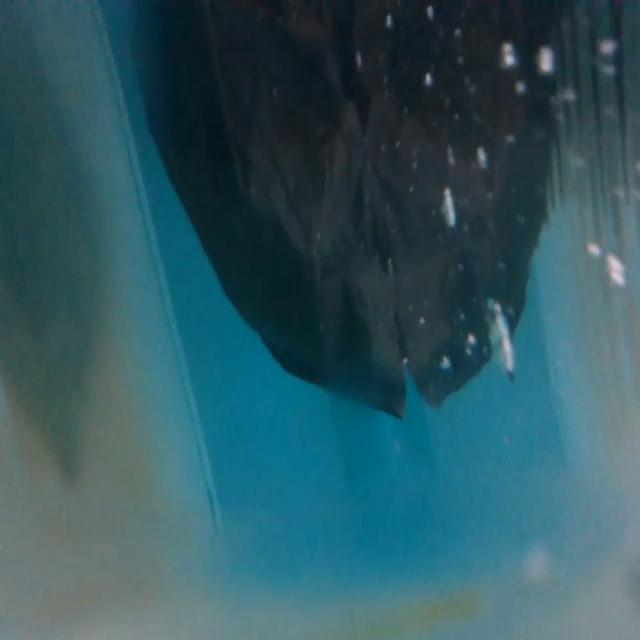plastic bags: (118, 0, 572, 429)
